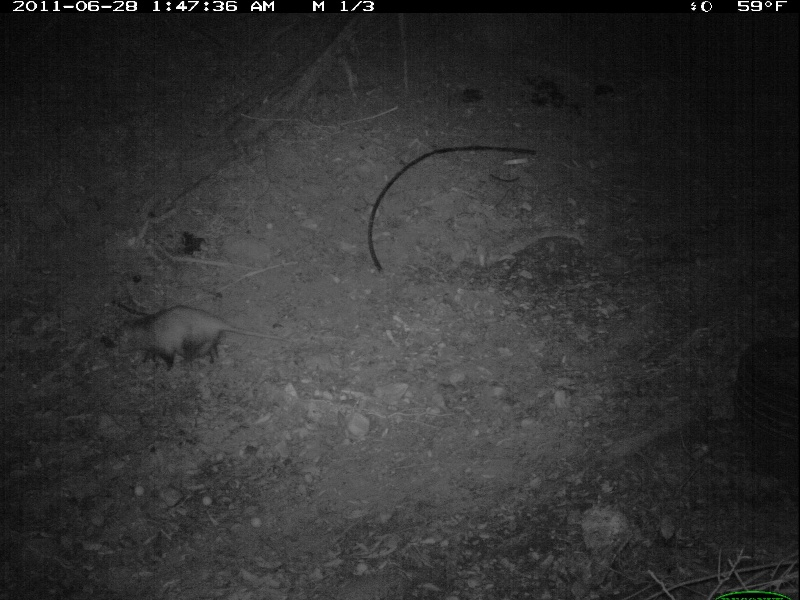opossum: (113, 303, 289, 369)
